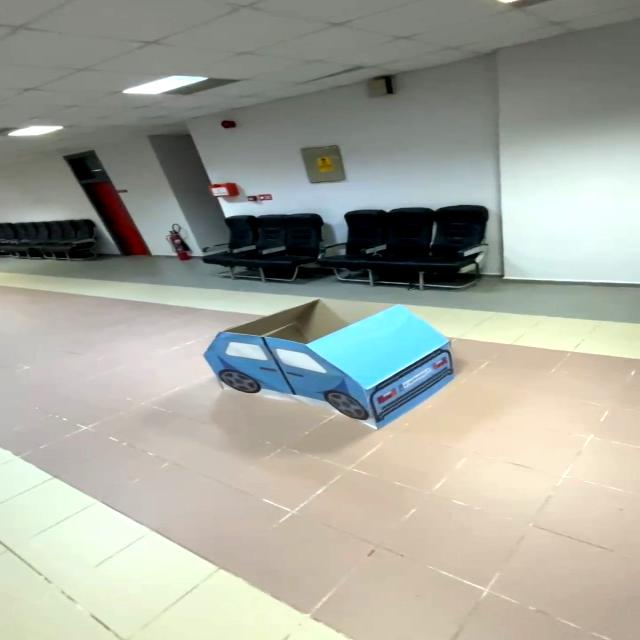blue_car: (178, 288, 479, 451)
